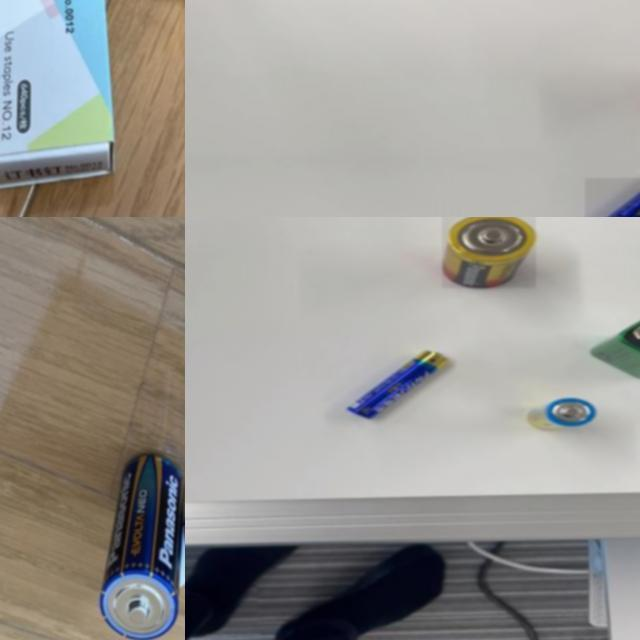9V: (588, 315, 640, 377)
